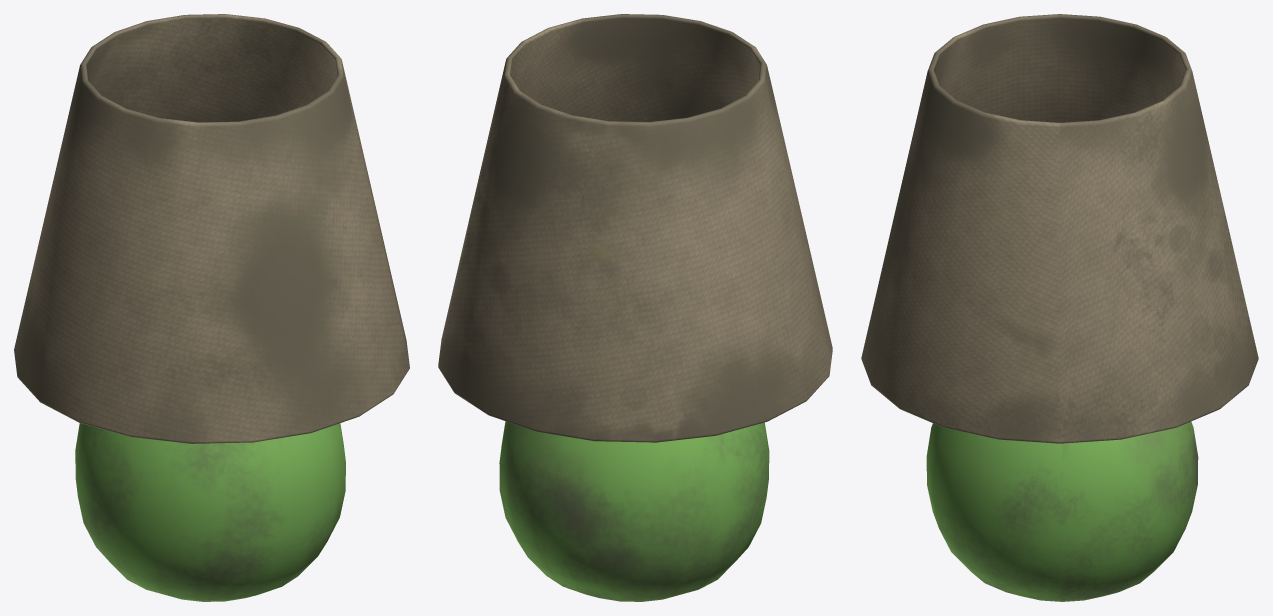
Rendered from Night_Light_F.FBX.
3 renders of one model, left to right at view 1: azimuth 30°, elevation 25°; view 2: azimuth 150°, elevation 25°; view 3: azimuth 270°, elevation 25°, orthographic.
Parts seen in each view (by area): view 1: night_light; view 2: night_light; view 3: night_light.
Boxes of the visible parts, x1,y1,x2,y2 form: night_light: (14, 14, 409, 601); night_light: (438, 14, 832, 601); night_light: (861, 14, 1258, 601).
Size of the model in its own units: 48.58 by 68.55 by 48.58.
Materials: 1 (1 with a texture image).
